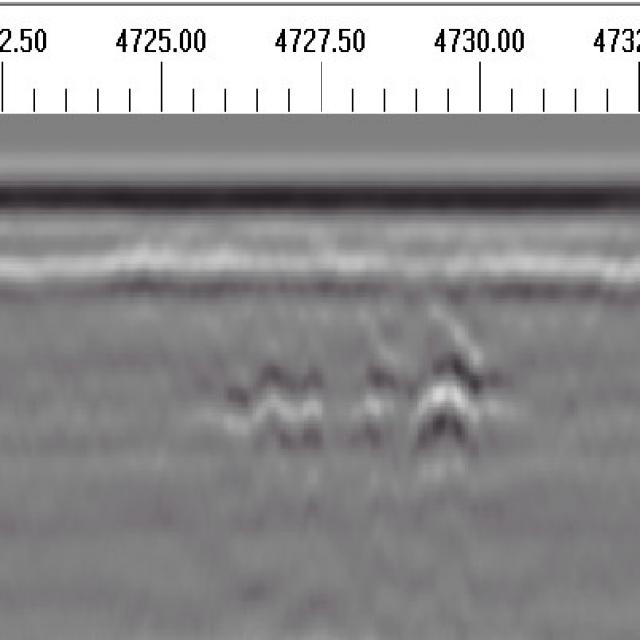loose: (229, 321, 498, 460)
